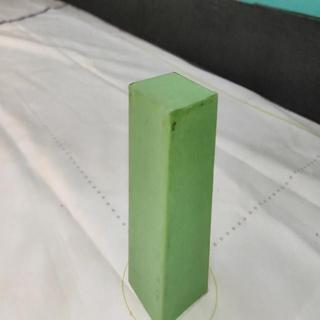greenbox: (127, 71, 219, 320)
